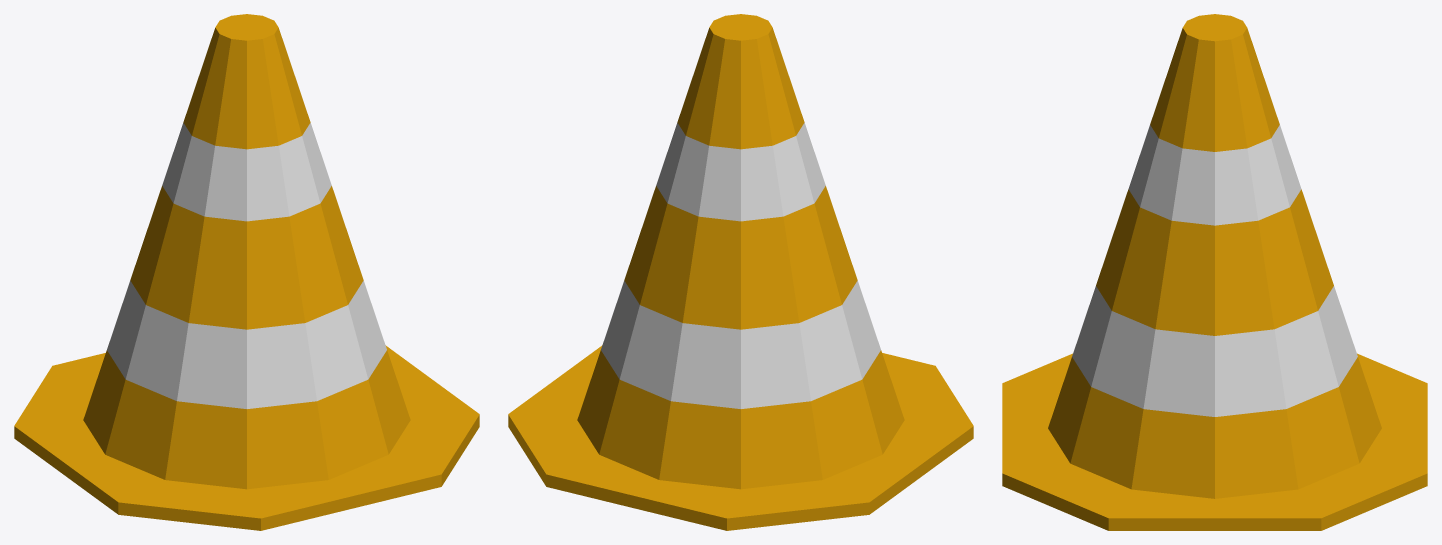
The picture shows the model from 3 angles, left to right: view 1: azimuth 30°, elevation 25°; view 2: azimuth 150°, elevation 25°; view 3: azimuth 270°, elevation 25°; orthographic projection. The views are drawn at different scales.
Visible parts, largest first — view 1: pCylinder2; view 2: pCylinder2; view 3: pCylinder2.
Part boxes in pixels (box(x1,y1,x2,y2)): pCylinder2: box(14, 14, 479, 530); pCylinder2: box(508, 14, 973, 530); pCylinder2: box(1002, 14, 1427, 530).
Size of the model in its own units: 11.38 by 12.19 by 11.38.
